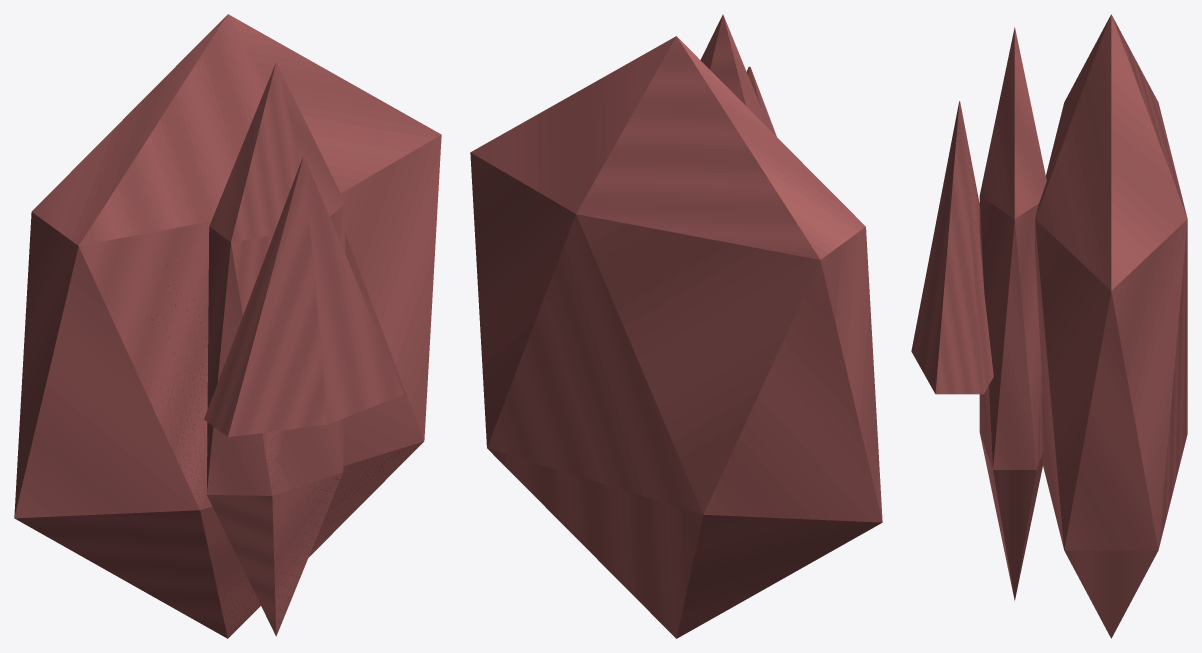
Rendered from overload_script.glb.
The picture shows the model from 3 angles, left to right: view 1: azimuth 30°, elevation 25°; view 2: azimuth 150°, elevation 25°; view 3: azimuth 270°, elevation 25°; orthographic projection. The views are drawn at different scales.
Parts seen in each view (by area): view 1: gear_overload_script; view 2: gear_overload_script; view 3: gear_overload_script.
Boxes of the visible parts, x1,y1,x2,y2 form: gear_overload_script: (14, 14, 441, 638); gear_overload_script: (470, 14, 882, 638); gear_overload_script: (911, 14, 1187, 638).
Bounding box in the file's own units: 0.3578 × 0.5 × 0.2003.
1 material, 1 textured.
